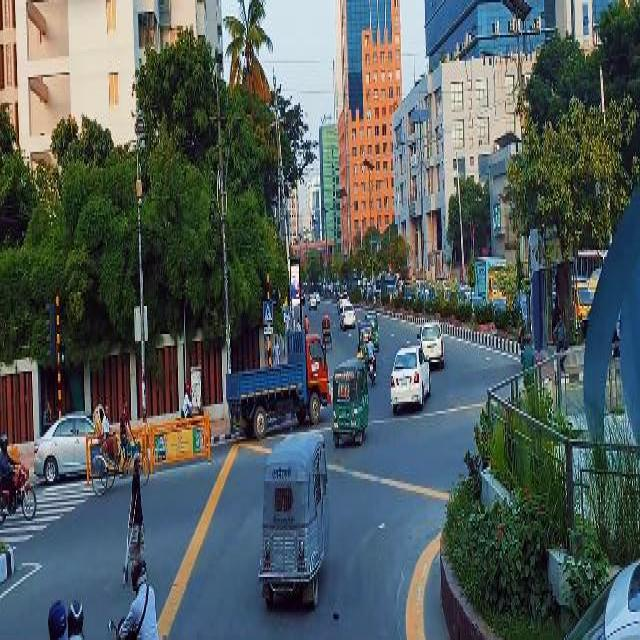car: (31, 405, 97, 480), (389, 340, 433, 417), (416, 314, 444, 363), (338, 302, 357, 330)
motorbike: (0, 456, 36, 518)
pickup: (223, 323, 331, 438)
rickshaw: (86, 395, 150, 500), (320, 307, 332, 352)
three wheelers -CNG-: (255, 426, 331, 613), (331, 349, 369, 450), (362, 307, 380, 347), (358, 318, 372, 350)
